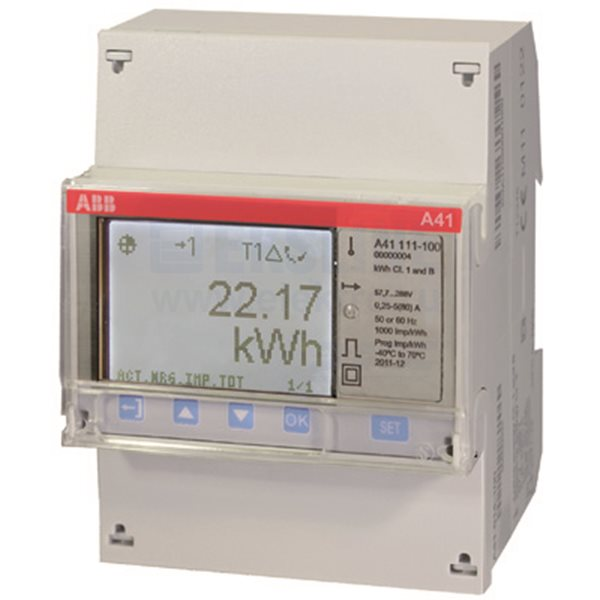counter: (55, 8, 501, 597)
counter_screen: (102, 214, 340, 399)
